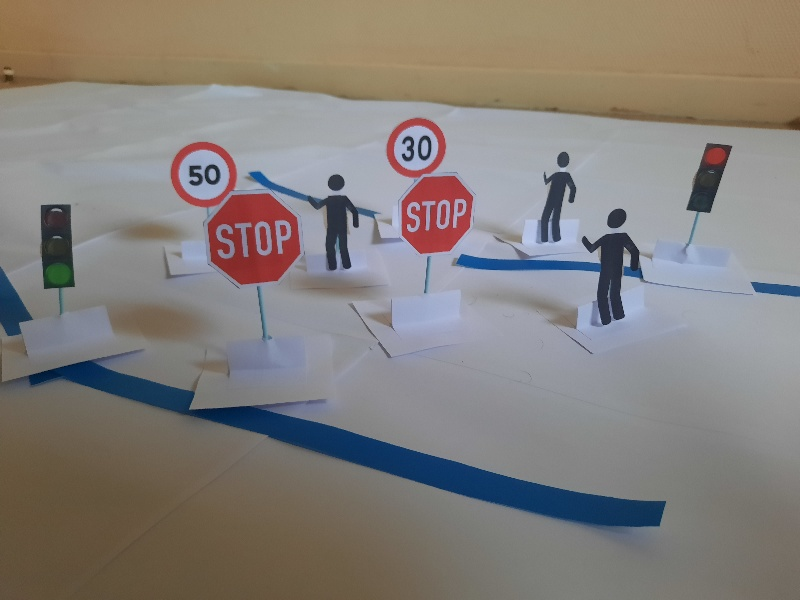Green: (38, 201, 81, 292)
Limit 30: (386, 116, 449, 180)
Limit 50: (169, 141, 238, 209)
Person: (581, 203, 640, 329), (306, 174, 363, 274), (537, 151, 577, 244)
Red: (686, 139, 732, 217)
Stop: (204, 191, 305, 287), (396, 174, 476, 254)
